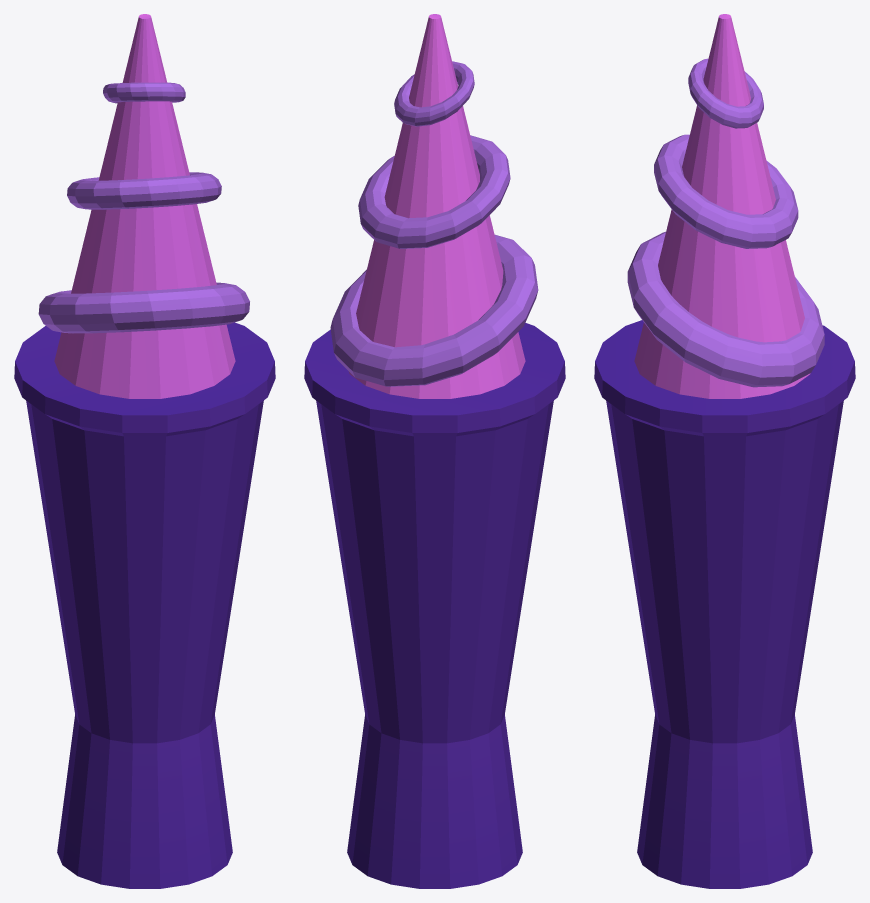
The model's file is bullet of BUNKER BOMB.fbx.
3 views of the same model, side by side, from view 1: azimuth 30°, elevation 25°; view 2: azimuth 150°, elevation 25°; view 3: azimuth 270°, elevation 25° (orthographic).
Parts seen in each view (by area): view 1: Cylinder.001; view 2: Cylinder.001; view 3: Cylinder.001.
Part boxes in pixels (left/top/right/bottom): Cylinder.001: left=14, top=14, right=275, bottom=888; Cylinder.001: left=304, top=14, right=565, bottom=888; Cylinder.001: left=594, top=14, right=855, bottom=888.
Bounding box in the file's own units: 37.09 × 133 × 37.67.
1 material, 1 textured.
